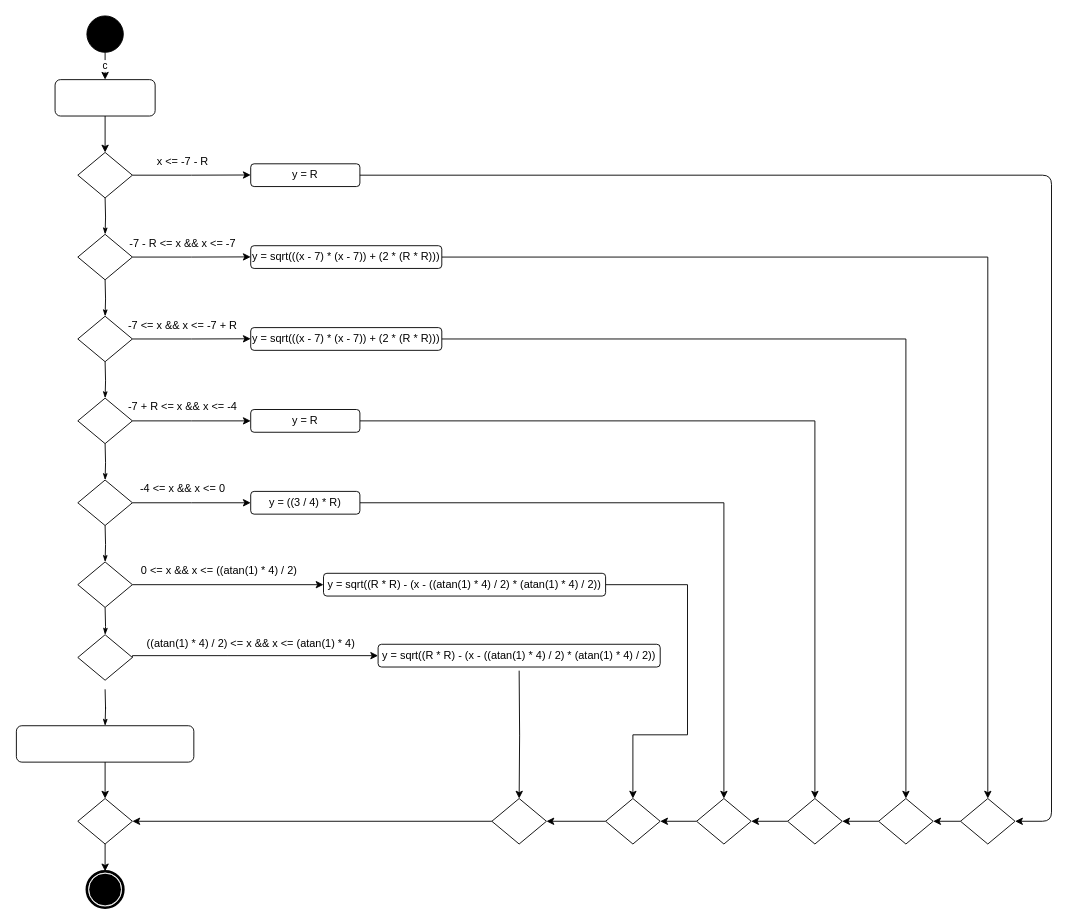
Image size: 1075x924. Some labels were removed from this diagram. Each missing label, with the centre of its shape:
"y = (1 + (sqrt(2) * (atan(1) * 4)))" belongs at [104,743].
"Ввід R,x" belongs at [104,97].
